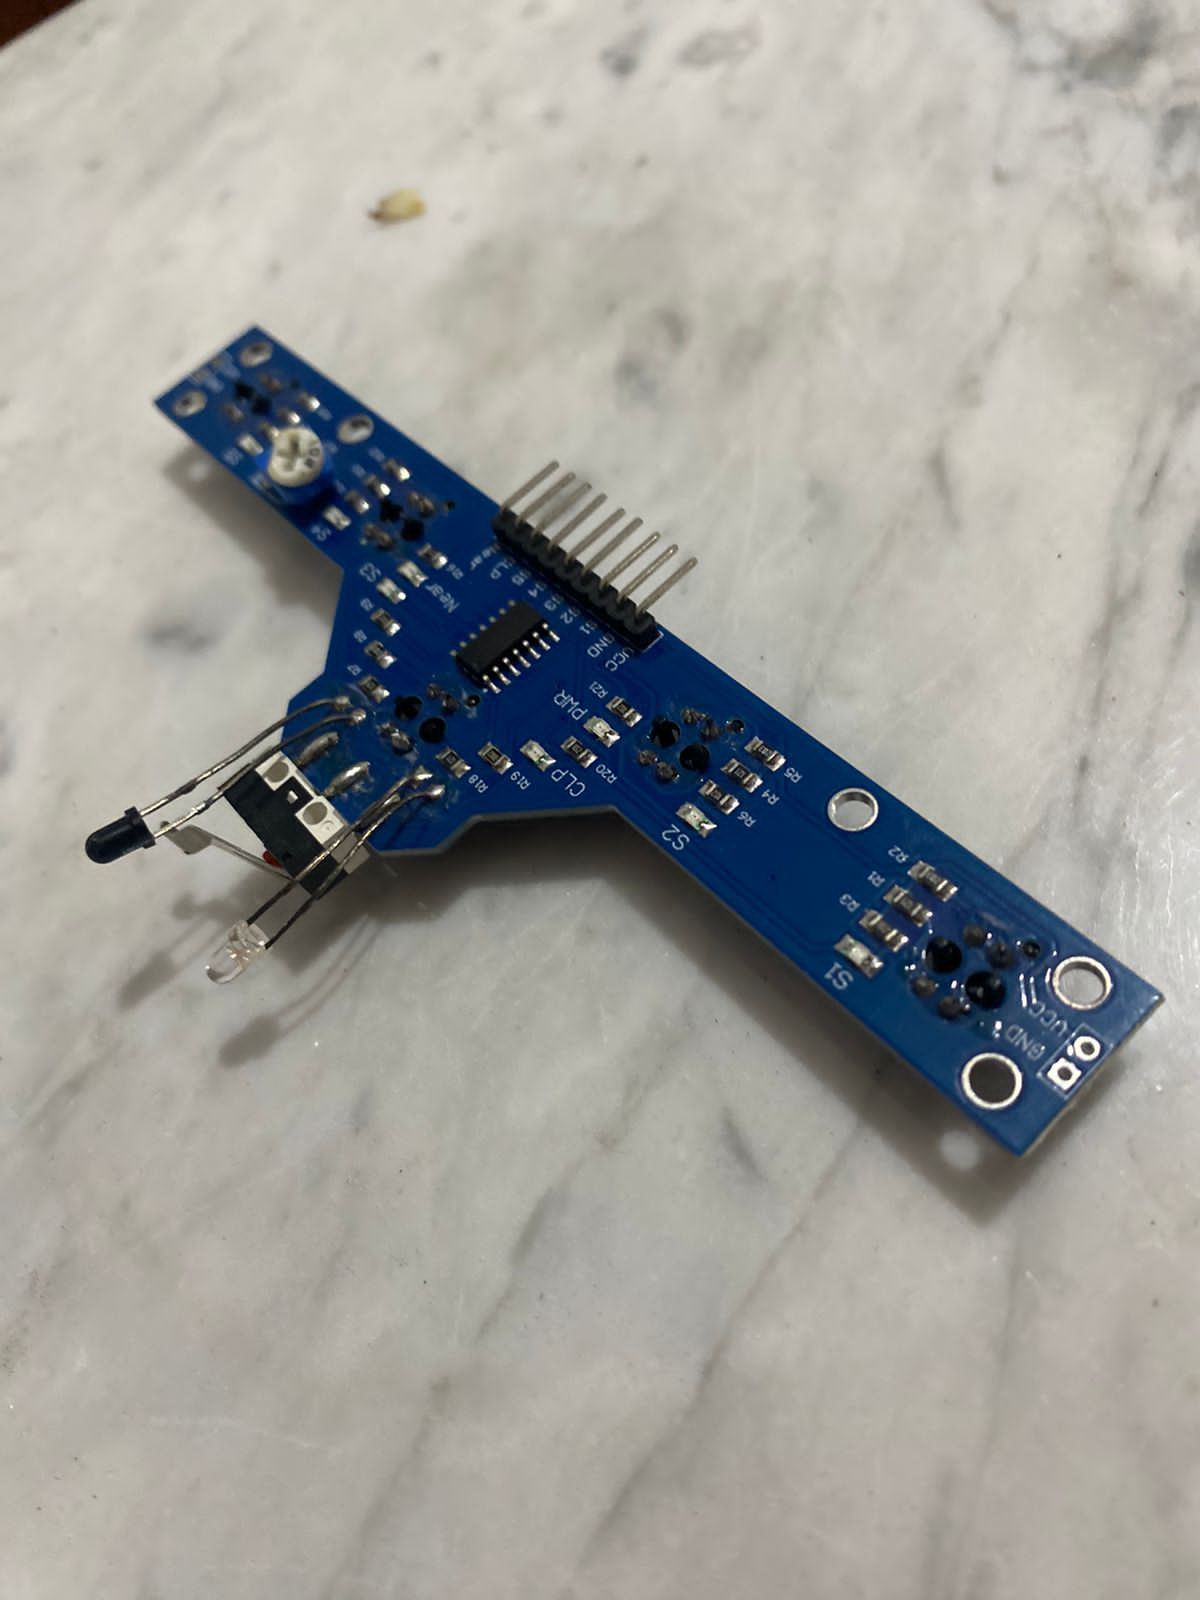Capteur-IR-5 Voies: (69, 301, 1168, 1189)
